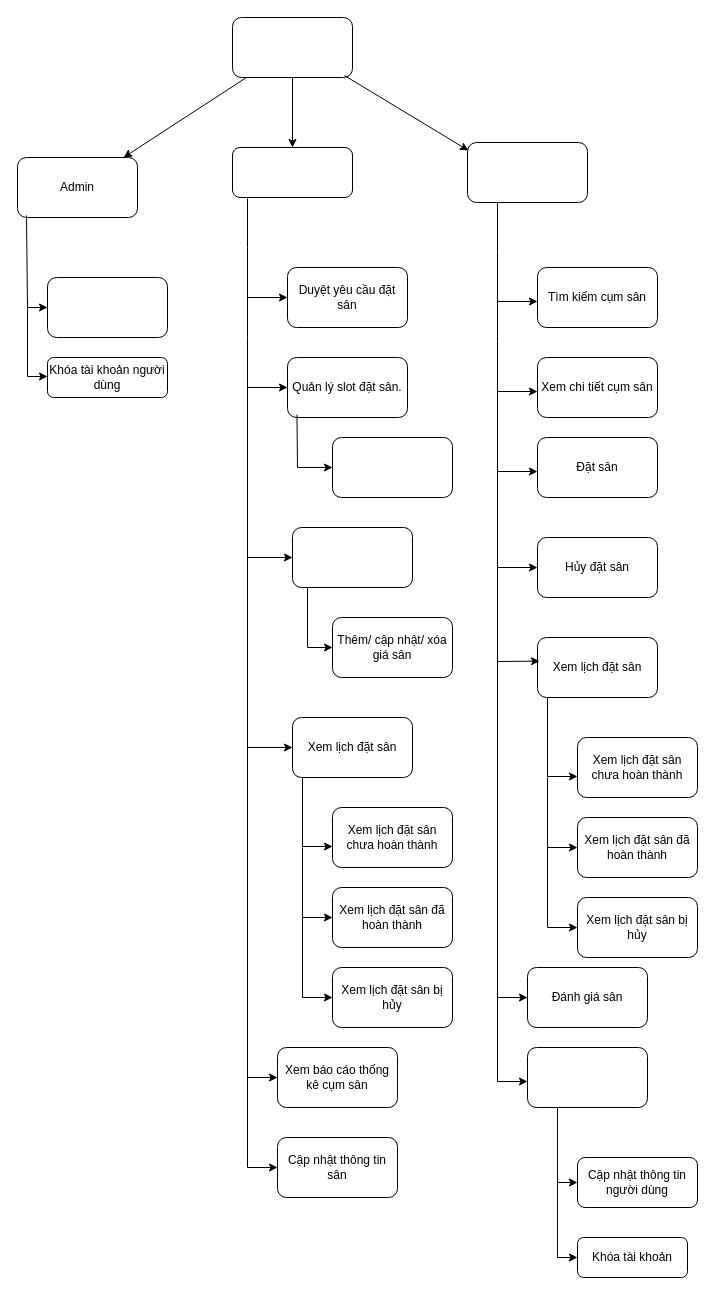
Image size: 715x1295. Some labels were removed from this diagram. Each missing label, with the centre of its shape:
Chủ sân: the point at 292,172
Duyệt yêu cầu đăng ký sân: the point at 107,307
Khách hàng: the point at 527,172
Quản lý giá sân: the point at 352,557
Quản lý tài khoản: the point at 587,1077
Thêm/ cập nhật/ xóa slot đặt sân: the point at 392,467
Đặt sân pickle ball: the point at 292,47
